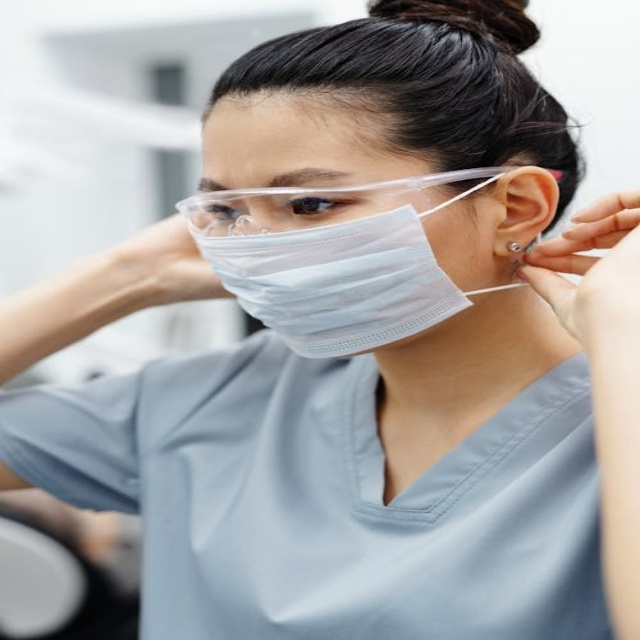Gafas: (172, 166, 543, 244)
Mascara: (180, 165, 511, 358)
Sin_guantes: (512, 181, 639, 358)
